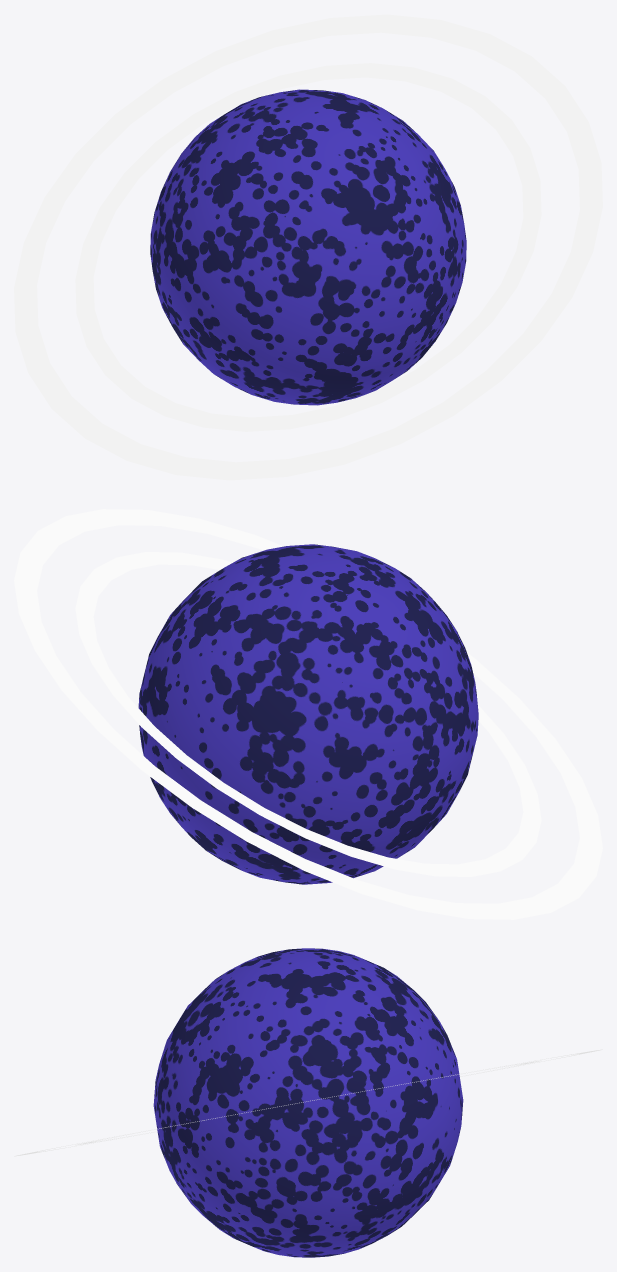
File: PURPLEPLANET.glb
The picture shows the model from 3 angles, top to bottom: view 1: azimuth 30°, elevation 25°; view 2: azimuth 150°, elevation 25°; view 3: azimuth 270°, elevation 25°; orthographic projection. The views are drawn at different scales.
Parts seen in each view (by area): view 1: Sphere.002, Circle.001; view 2: Sphere.002, Circle.001; view 3: Sphere.002, Circle.001.
Boxes of the visible parts, <box> form: Sphere.002: <box>150,89,466,405</box>; Circle.001: <box>14,14,602,480</box>; Sphere.002: <box>138,544,478,884</box>; Circle.001: <box>14,509,602,919</box>; Sphere.002: <box>153,948,463,1257</box>; Circle.001: <box>14,1049,602,1156</box>.
Size of the model in its own units: 2.73 by 1.55 by 2.95.
Materials: 2 (2 with a texture image).
